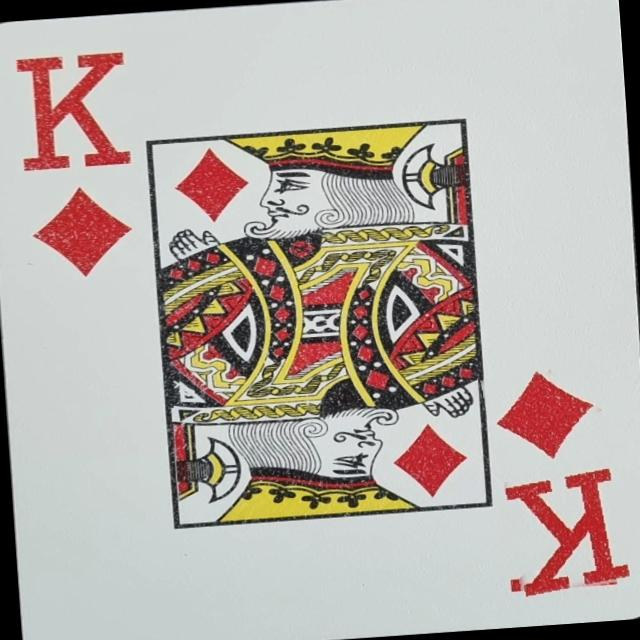Kd: (485, 360, 629, 598), (11, 49, 144, 282)
